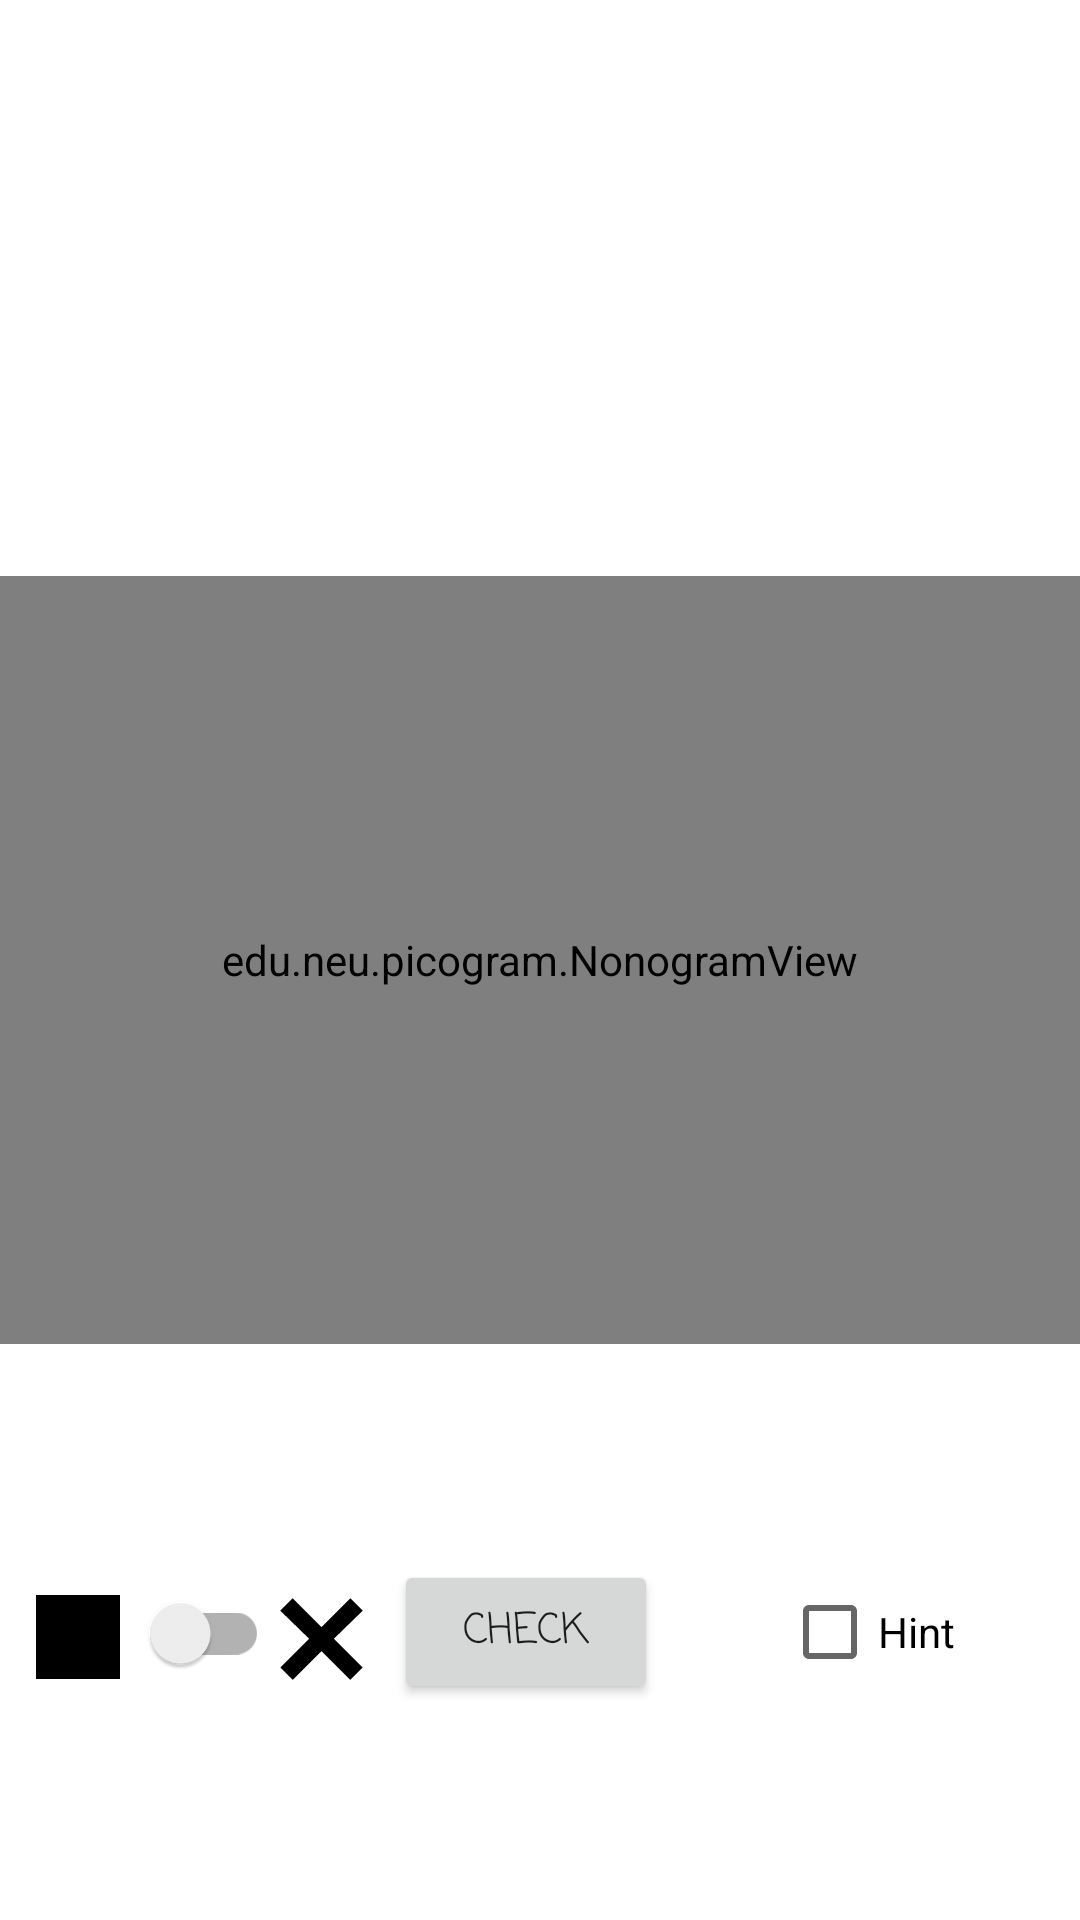

Screen size 1080w x 1920h. Icon name, then its box in pixels as bbox=[x1, y1, x2, y2]:
cross: bbox=[280, 1598, 363, 1680]
